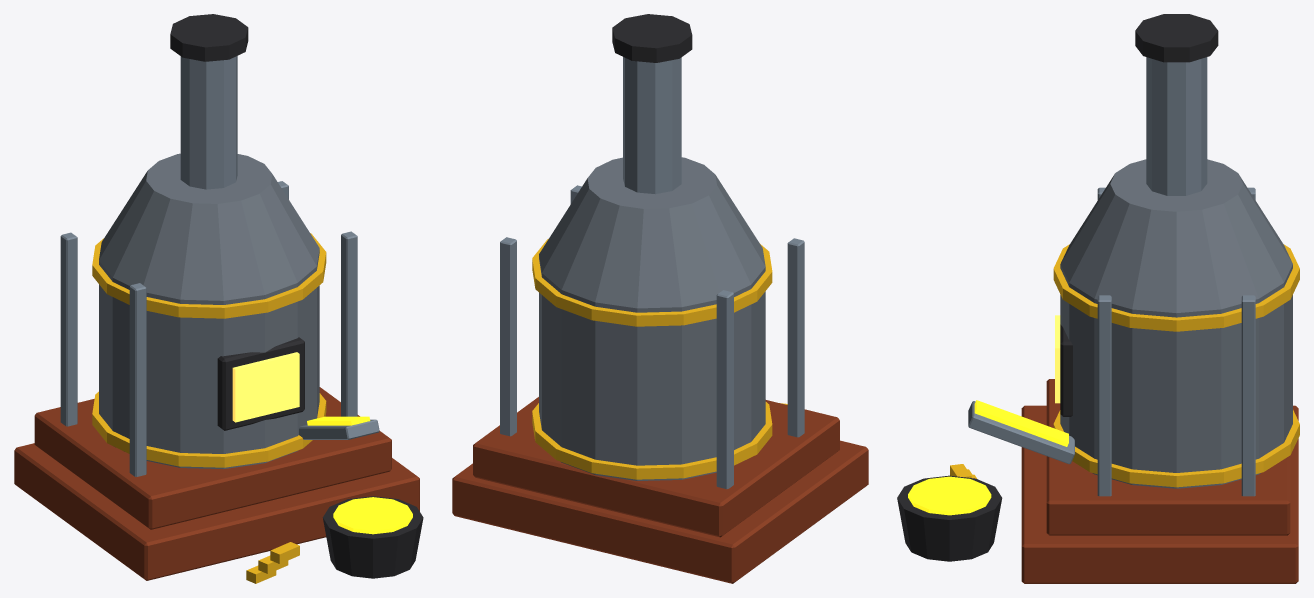
File: prop_furnace.fbx
3 renders of one model, left to right at view 1: azimuth 30°, elevation 25°; view 2: azimuth 150°, elevation 25°; view 3: azimuth 270°, elevation 25°, orthographic. The views are drawn at different scales.
Visible parts, largest first — view 1: prop_furnace; view 2: prop_furnace; view 3: prop_furnace.
Part boxes in pixels (x1,y1,x2,y2): prop_furnace: (14, 14, 423, 583); prop_furnace: (452, 14, 868, 583); prop_furnace: (897, 14, 1299, 583).
Size of the model in its own units: 12 by 19.3 by 14.55.
